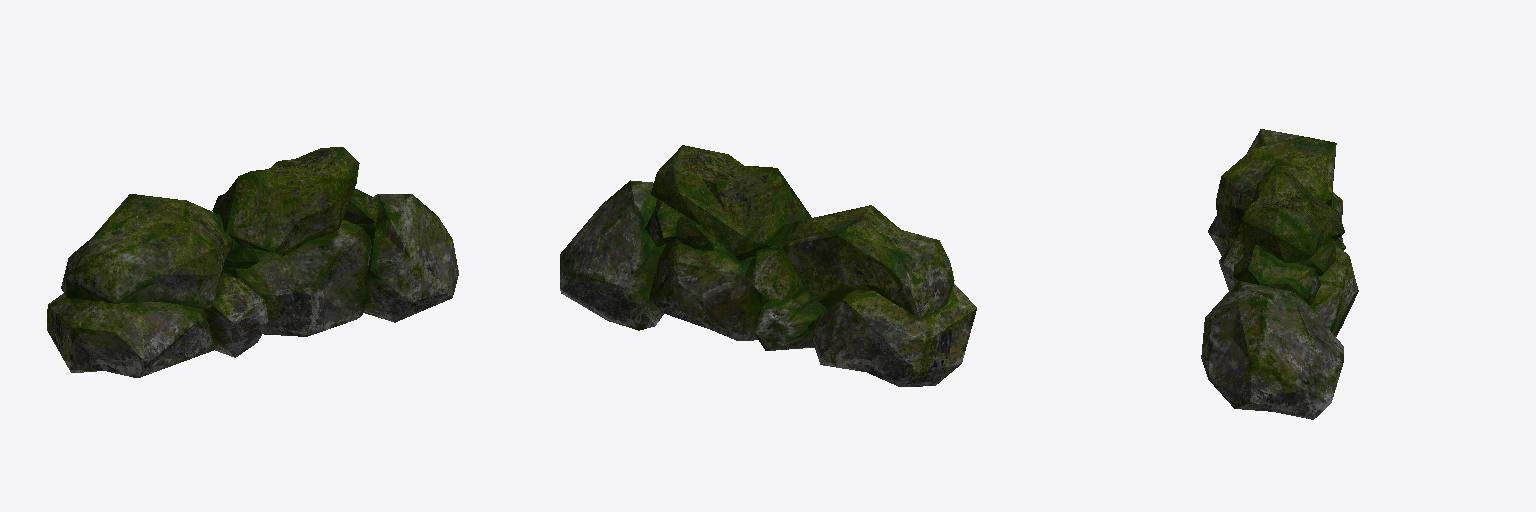
The picture shows the model from 3 angles: view 1: azimuth 30°, elevation 25°; view 2: azimuth 150°, elevation 25°; view 3: azimuth 270°, elevation 25°; orthographic projection.
Visible parts, largest first — view 1: FBXASC053_lp1; view 2: FBXASC053_lp1; view 3: FBXASC053_lp1.
Part boxes in pixels (bbox=[...]): FBXASC053_lp1: bbox=[47, 147, 458, 377]; FBXASC053_lp1: bbox=[560, 145, 976, 386]; FBXASC053_lp1: bbox=[1201, 129, 1358, 419].
Bounding box in the file's own units: 10.51 × 4.56 × 3.66.
Materials: 1 (1 with a texture image).